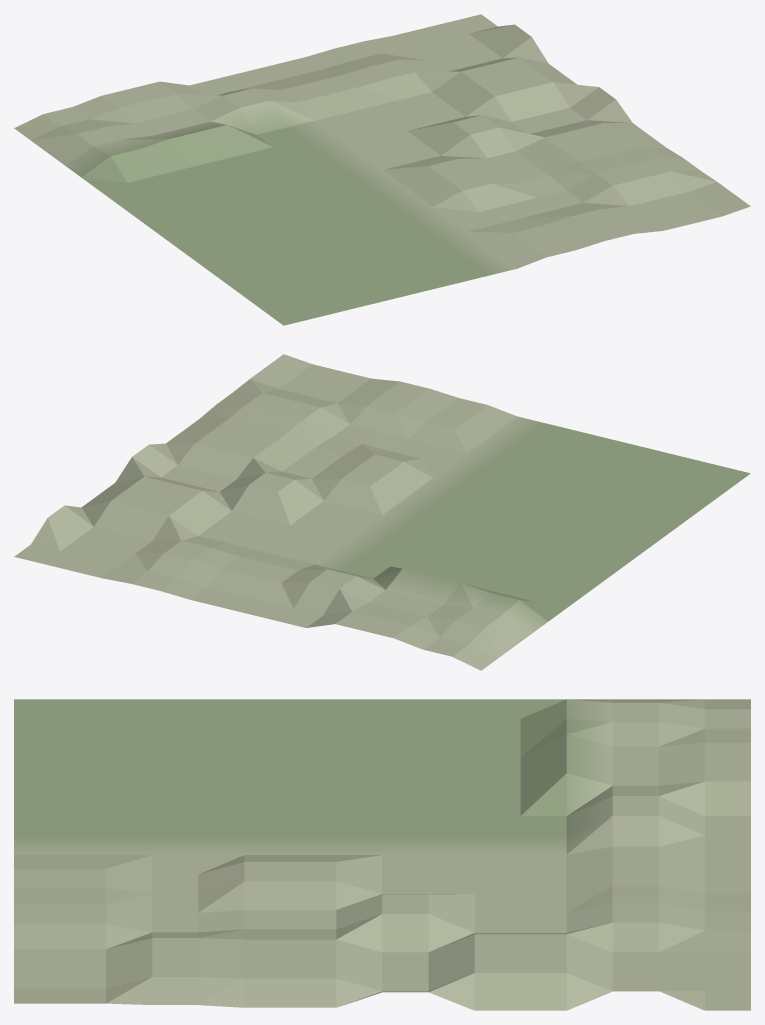
3 renders of one model, top to bottom at view 1: azimuth 30°, elevation 25°; view 2: azimuth 150°, elevation 25°; view 3: azimuth 270°, elevation 25°, orthographic. The views are drawn at different scales.
Bounding box in the file's own units: 32 × 1.12 × 32.
